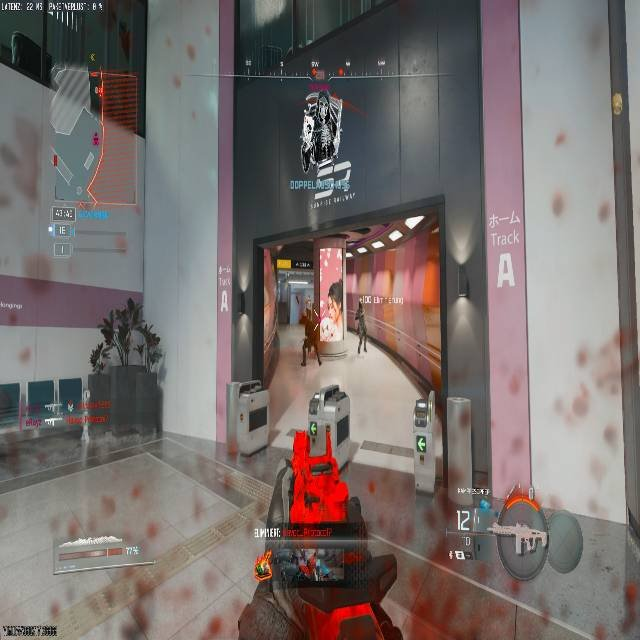player: (298, 297, 323, 367), (408, 398, 434, 458), (354, 308, 368, 354)
